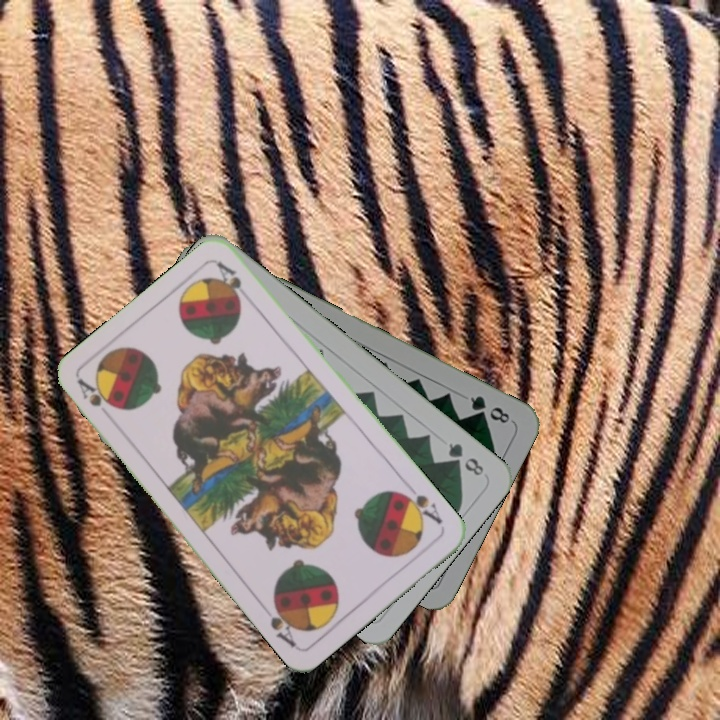G8: (443, 438, 487, 479), (466, 391, 513, 426)
SA: (395, 480, 445, 527), (73, 375, 119, 425)
